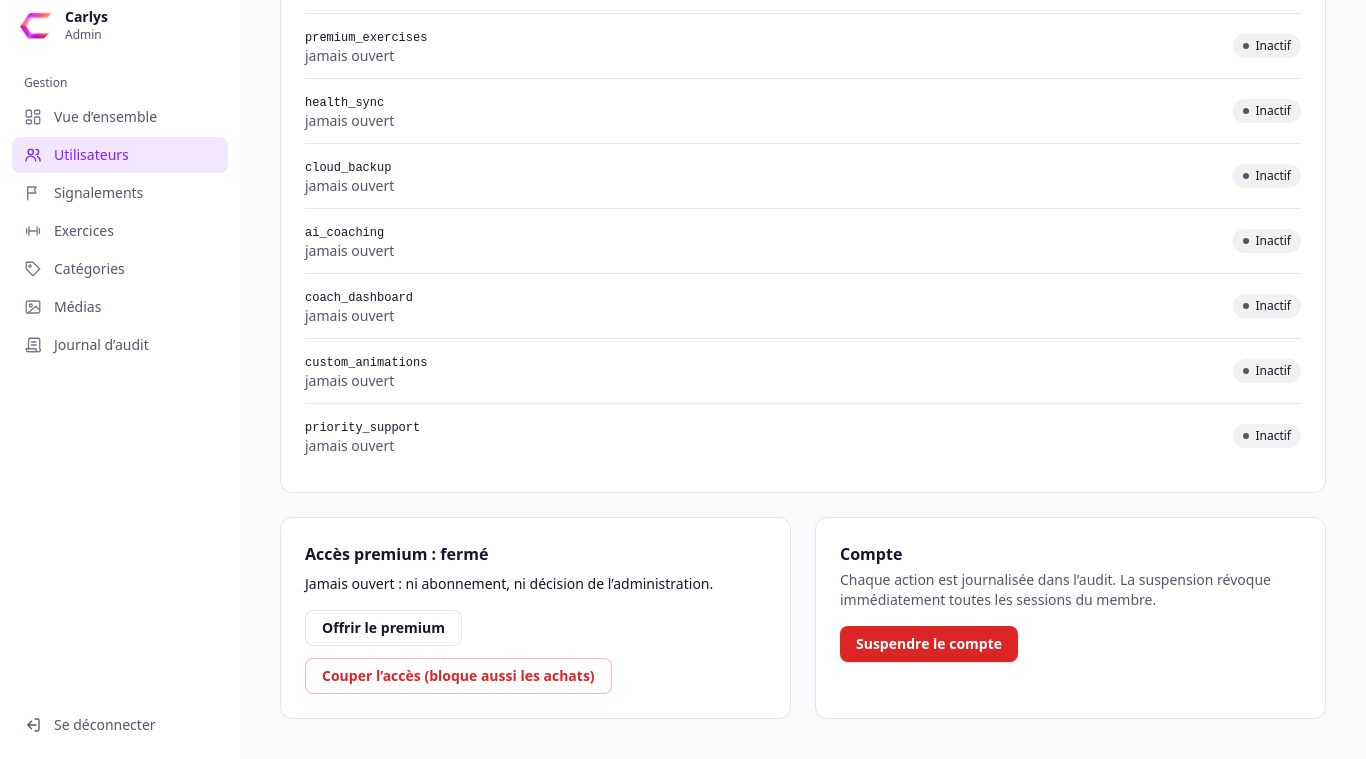
Fiche utilisateur › montre une panne serveur comme une action à réessayer
The image size is (1366, 759).
(page scrolled)
Click the button "Suspendre le compte" at (929, 644), box [840,626,1018,662]
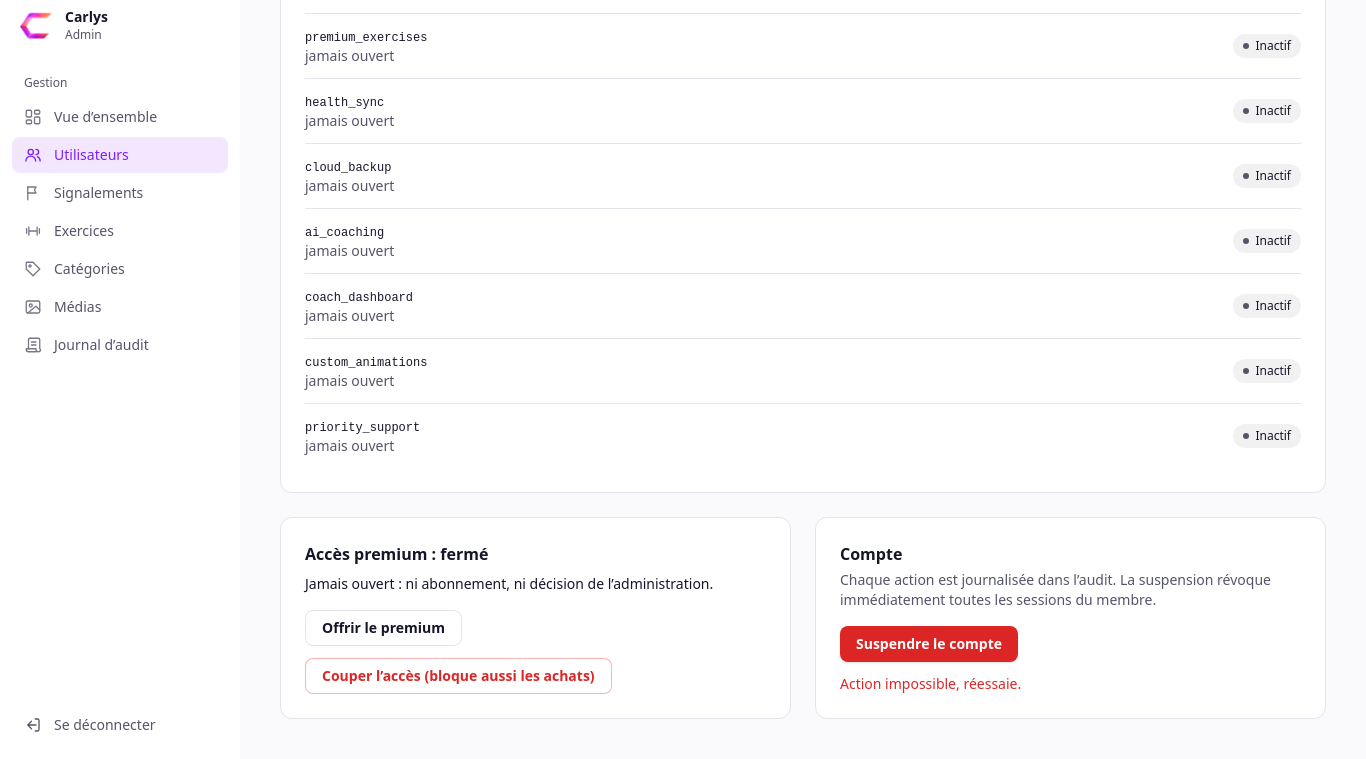
Now the message reads "Action impossible, réessaie.", box [840,674,1021,693]
